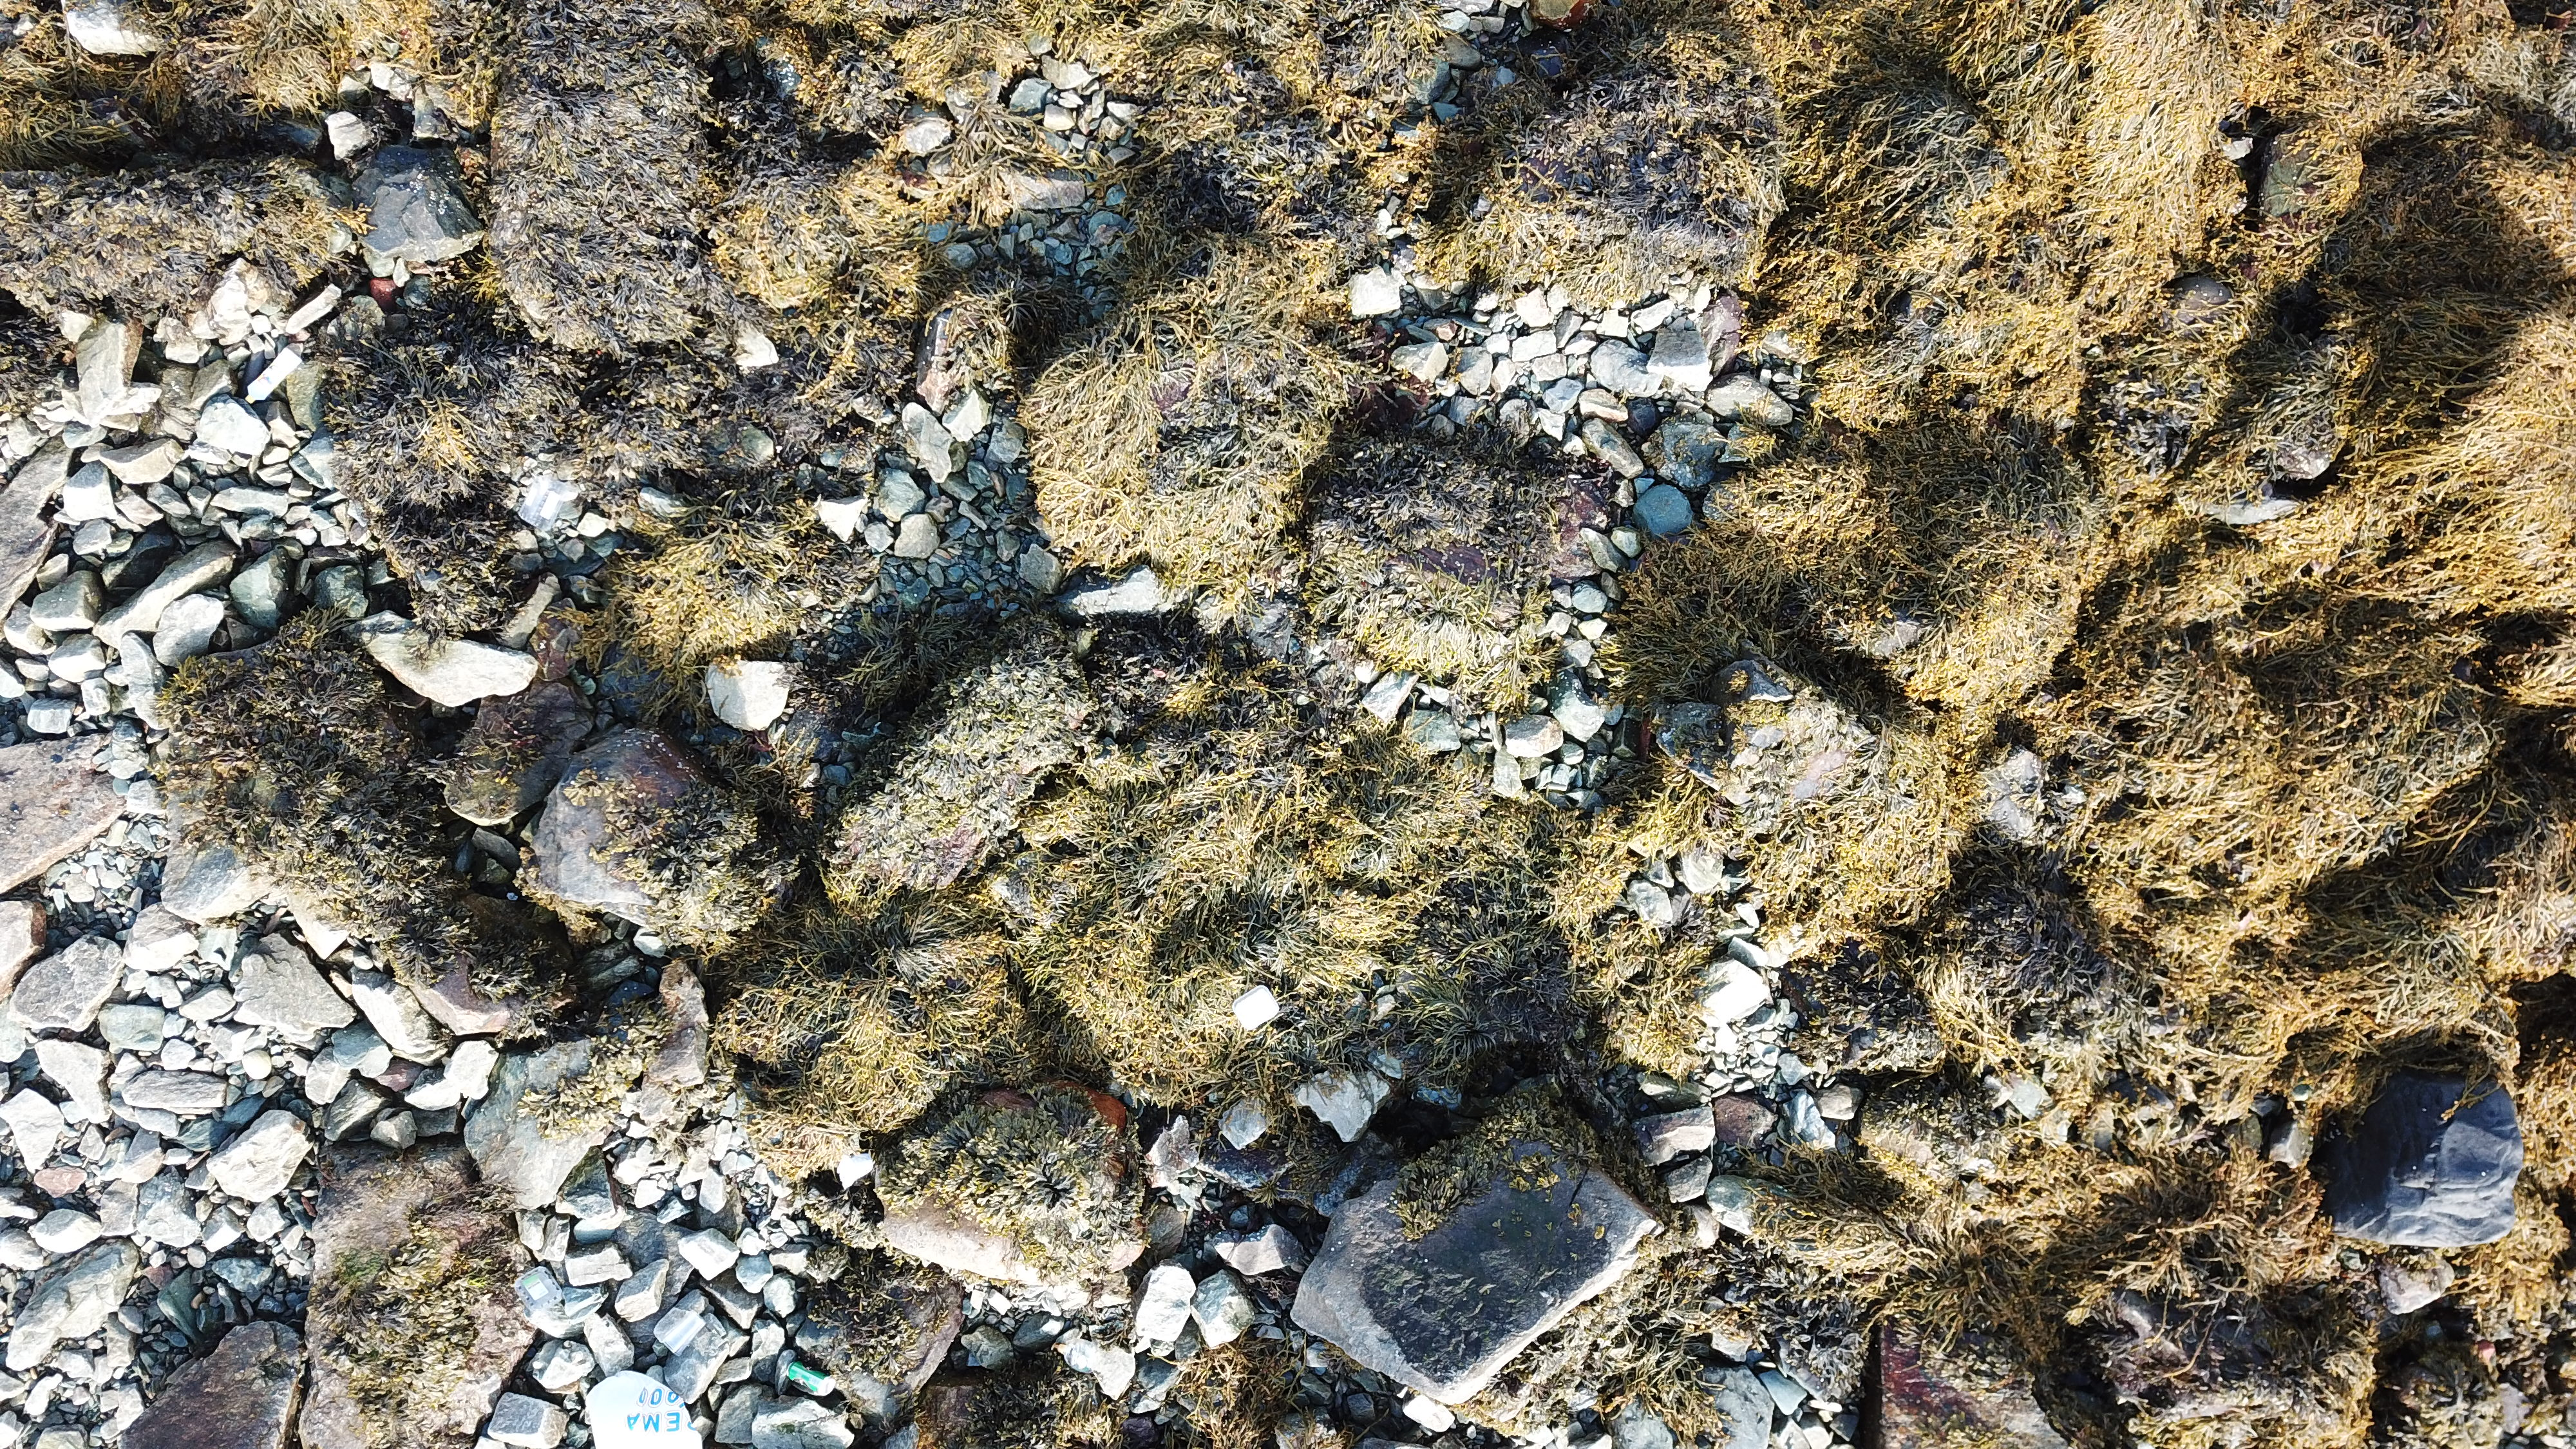Can: (784, 1361, 839, 1398)
Plastic: (587, 1369, 704, 1449), (246, 347, 303, 405), (517, 1265, 563, 1313), (1233, 985, 1281, 1031), (663, 1309, 708, 1355), (1051, 1338, 1104, 1373), (839, 1154, 876, 1189)
